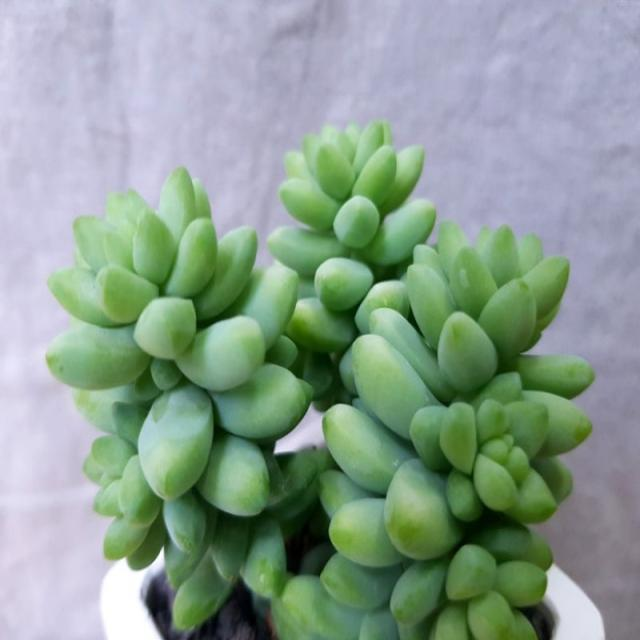Sedum: (46, 167, 318, 628), (320, 222, 594, 638), (268, 120, 435, 410)
